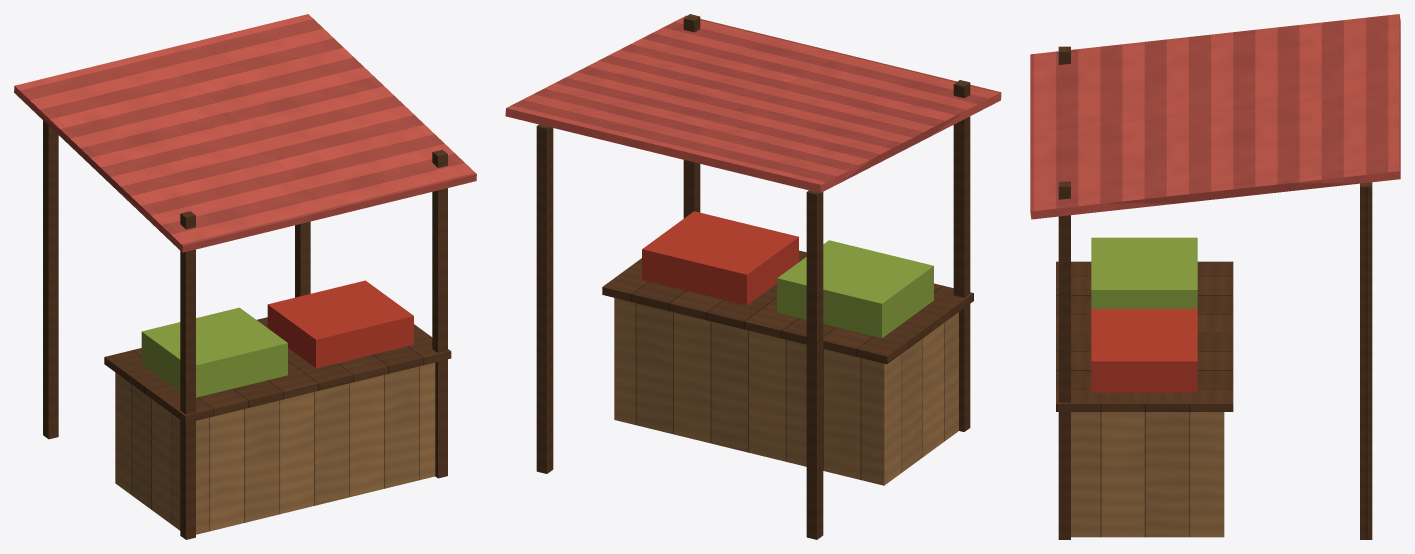
The model's file is stragan.glb.
The picture shows the model from 3 angles, left to right: view 1: azimuth 30°, elevation 25°; view 2: azimuth 150°, elevation 25°; view 3: azimuth 270°, elevation 25°; orthographic projection. The views are drawn at different scales.
Parts seen in each view (by area): view 1: stragan; view 2: stragan; view 3: stragan.
Boxes of the visible parts, box(x1,y1,x2,y2) form: stragan: box(14, 14, 476, 539); stragan: box(505, 14, 1001, 539); stragan: box(1030, 14, 1400, 539).
Bounding box in the file's own units: 2.1 × 2.35 × 2.09.
Materials: 5 (3 with a texture image).
